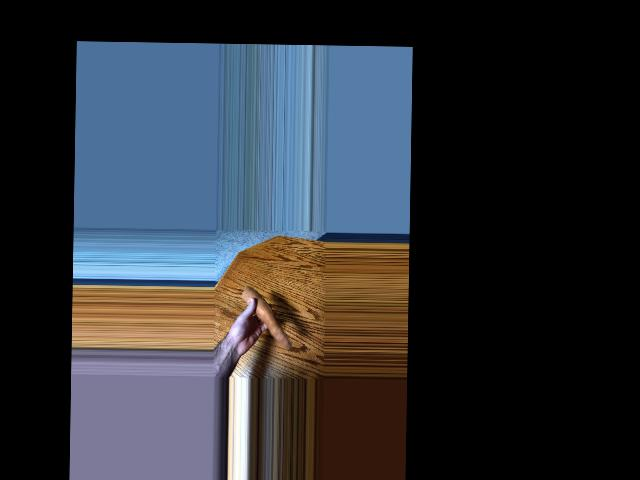sweet_potato: (240, 291, 290, 349)
